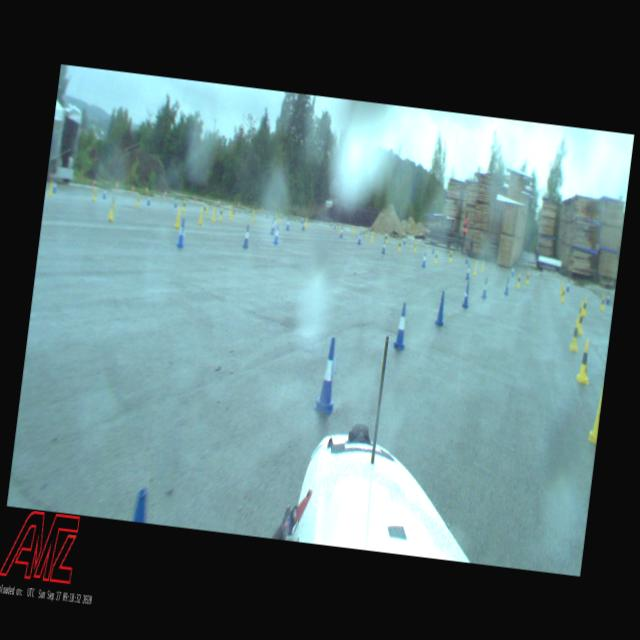blue_cone: (314, 336, 342, 414), (393, 302, 410, 351), (434, 290, 448, 326), (176, 217, 187, 247), (461, 282, 471, 308), (242, 224, 250, 248), (481, 277, 488, 299), (273, 224, 280, 244), (504, 276, 509, 296), (465, 264, 471, 280), (605, 290, 611, 306), (270, 218, 276, 234), (421, 251, 426, 267), (510, 264, 515, 277), (565, 278, 570, 291), (381, 240, 386, 253), (339, 228, 344, 238), (286, 218, 290, 230), (464, 252, 468, 264), (358, 232, 362, 244), (302, 220, 306, 230), (403, 234, 406, 244)
yellow_cone: (576, 338, 594, 384), (568, 318, 582, 352), (575, 300, 584, 329), (576, 309, 586, 334), (174, 206, 182, 228), (581, 296, 588, 316), (198, 206, 205, 224), (108, 203, 114, 221), (560, 287, 566, 303), (600, 294, 606, 310), (210, 206, 216, 222), (218, 205, 224, 220), (433, 250, 439, 264), (396, 238, 402, 252), (516, 272, 521, 288), (472, 260, 477, 276), (524, 271, 530, 284), (412, 240, 417, 252), (480, 259, 484, 272), (383, 232, 388, 242), (448, 250, 452, 262)
